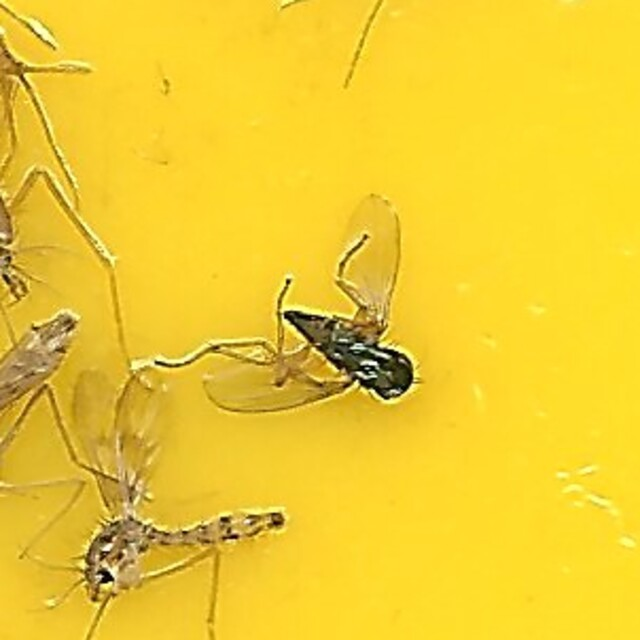Brachycera: (212, 202, 428, 438)
